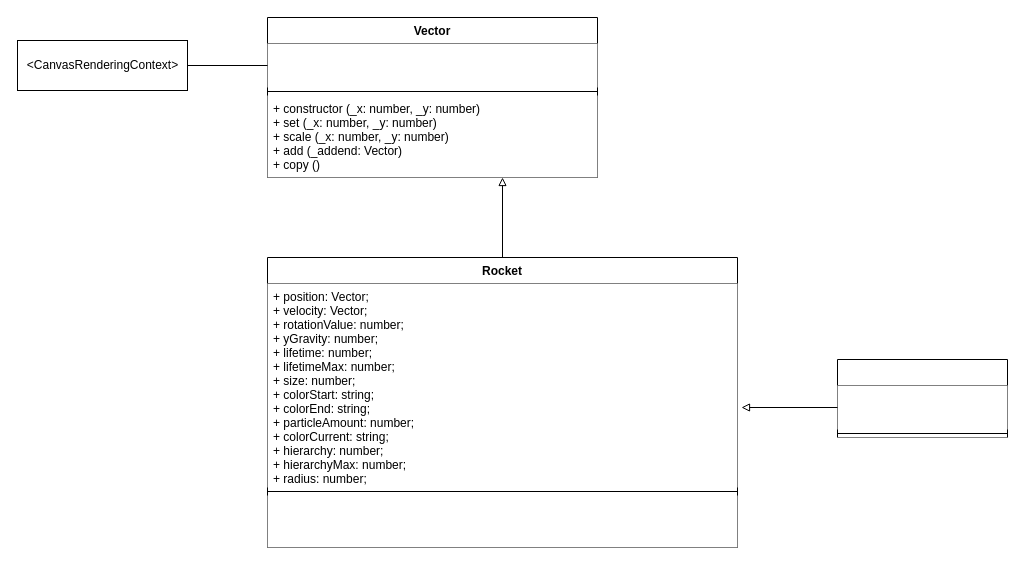
Image size: 1025x568. Some labels were removed from this diagram. The box of each missing label's shape, as (x1, y1, x2, y2) in pixels:
+ constructor() + copyPosition(): void + calculateNewValue(): void: (267, 495, 737, 547)
+ x: number + y: number: (267, 43, 597, 87)
RocketParticle: (836, 358, 1008, 438)
